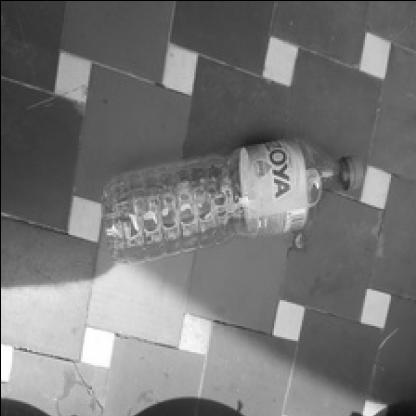plastic_bottles: (97, 134, 368, 266)
